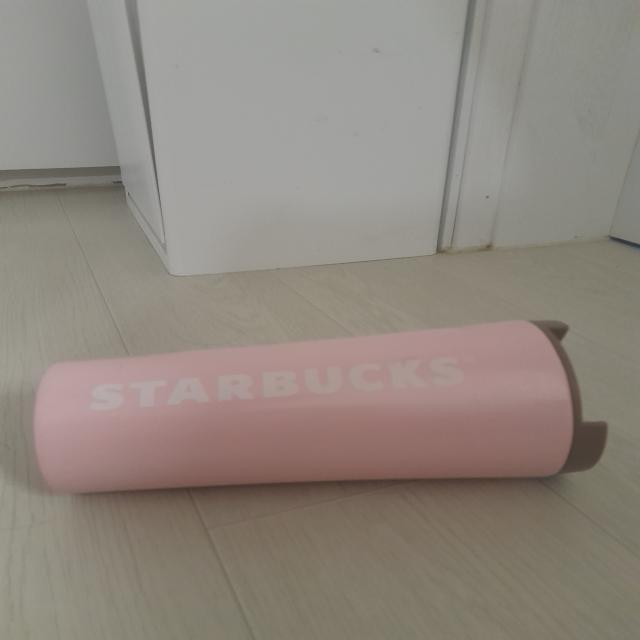waterbottle: (43, 321, 606, 489)
